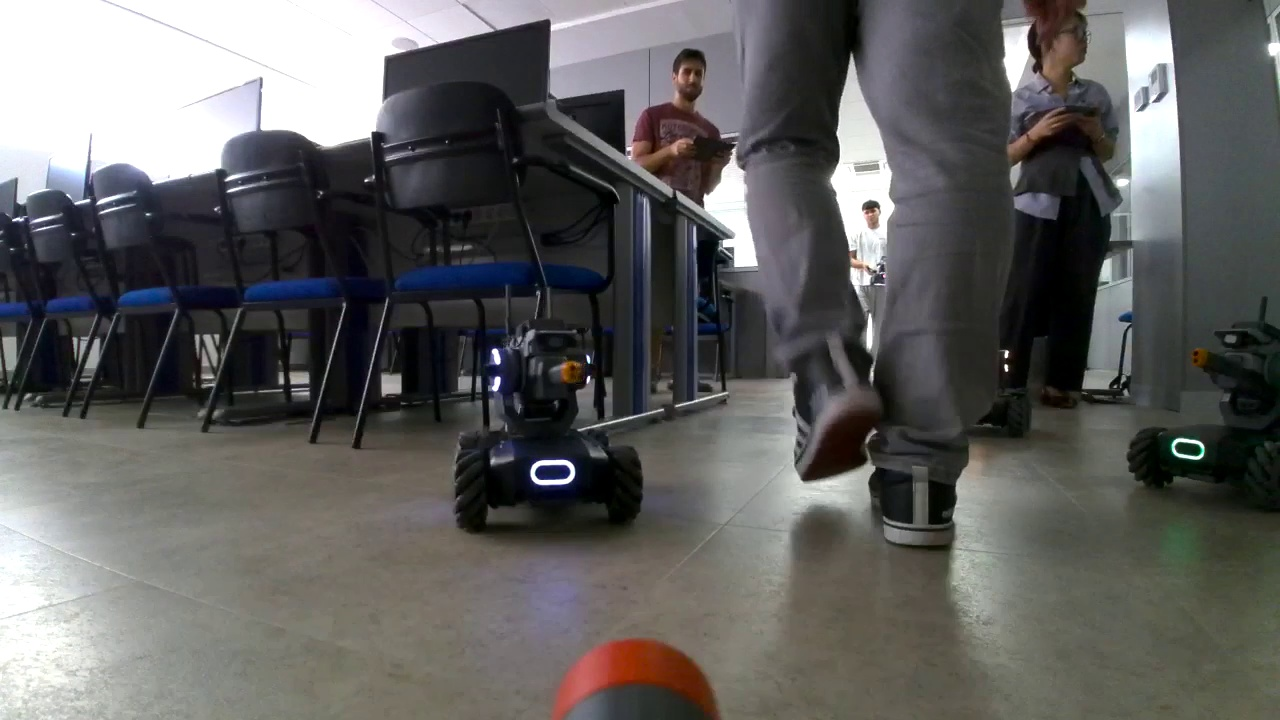robot: (452, 281, 642, 533), (1127, 296, 1280, 506)
